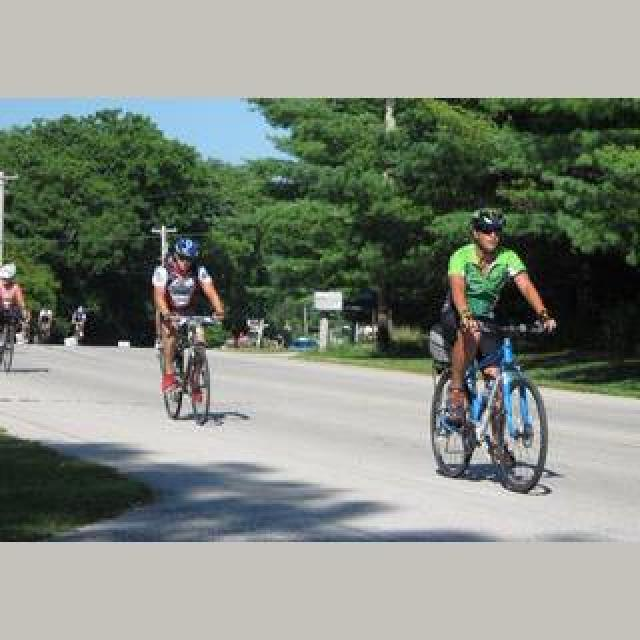MC-Bike: (434, 206, 556, 396), (152, 236, 226, 402)
Person: (430, 316, 554, 494), (158, 318, 220, 424)
